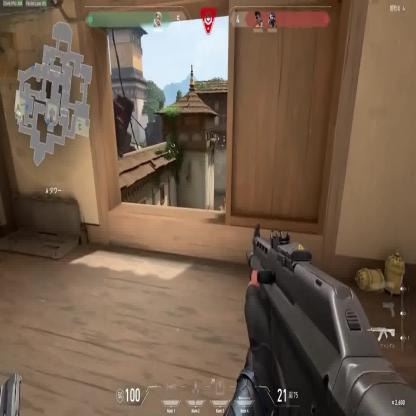enemy: (222, 193, 226, 211)
enemy_head: (223, 194, 224, 198)
